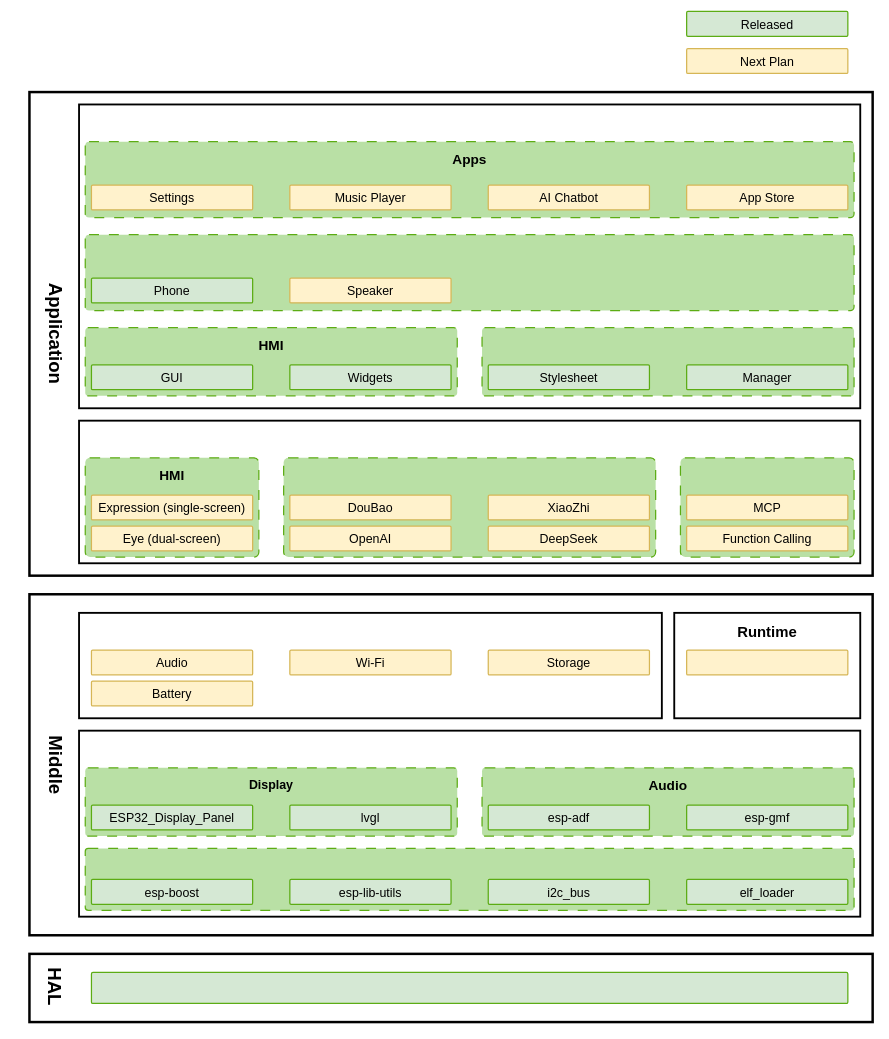
The diagram is 889 pixels wide and 1039 high, and some of its shapes have lost their labels. Here are the shapes that lost their labels. From the top down, the box of each, then its label:
(84, 234, 854, 311): Systems
(78, 103, 861, 409): System Framework
(481, 327, 854, 396): Core
(78, 419, 861, 564): AI Framework
(283, 457, 656, 557): Agent
(680, 457, 854, 557): Protocol
(78, 612, 662, 719): System Services
(686, 649, 848, 675): MicroPython
(78, 729, 861, 917): Function Components
(84, 848, 854, 911): Generic
(91, 972, 848, 1004): ESP-IDF
